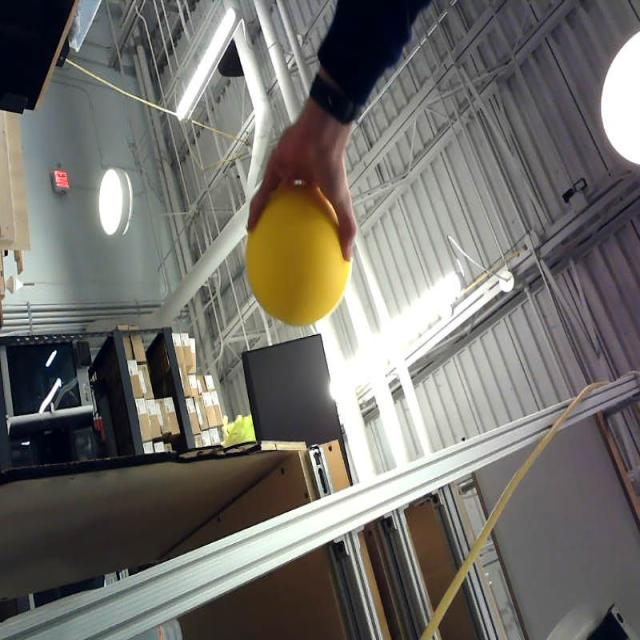Fuel: (246, 185, 350, 325)
